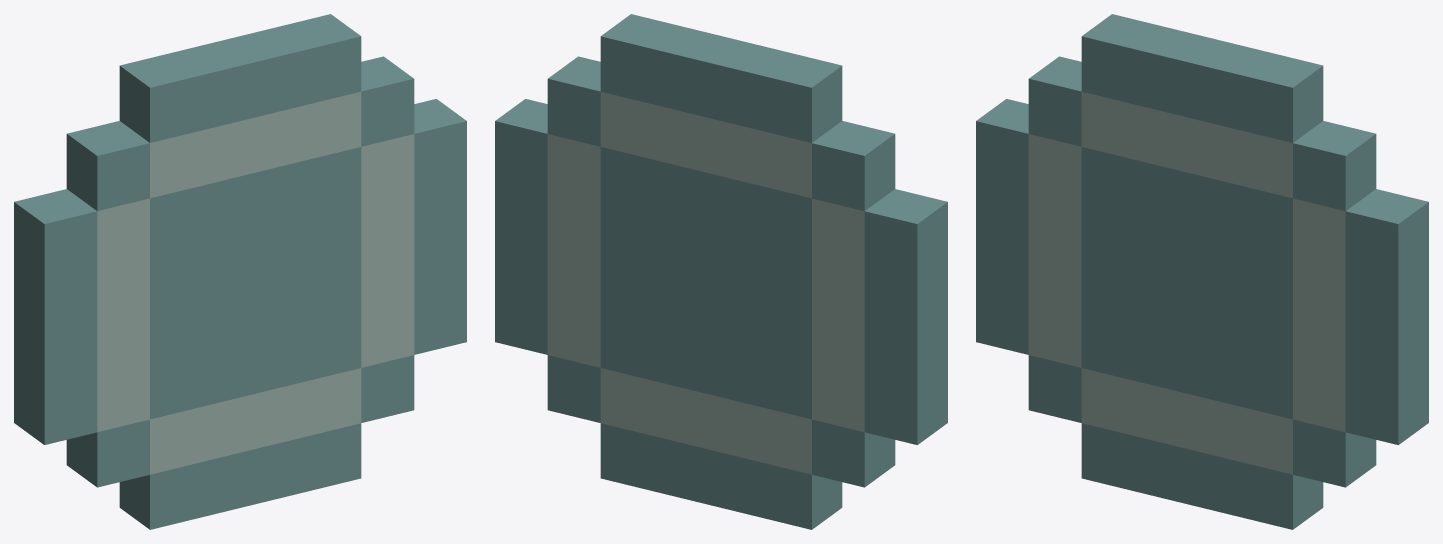
The model's file is Coin_Small_3.glb.
The picture shows the model from 3 angles, left to right: view 1: azimuth 30°, elevation 25°; view 2: azimuth 150°, elevation 25°; view 3: azimuth 330°, elevation 25°; orthographic projection.
Parts seen in each view (by area): view 1: Coin_Small_3; view 2: Coin_Small_3; view 3: Coin_Small_3.
Boxes of the visible parts, x1=… form: Coin_Small_3: x1=14, y1=14, x2=466, y2=529; Coin_Small_3: x1=495, y1=14, x2=947, y2=529; Coin_Small_3: x1=976, y1=14, x2=1428, y2=529.
Size of the model in its own units: 0.2 by 0.2 by 0.025.
